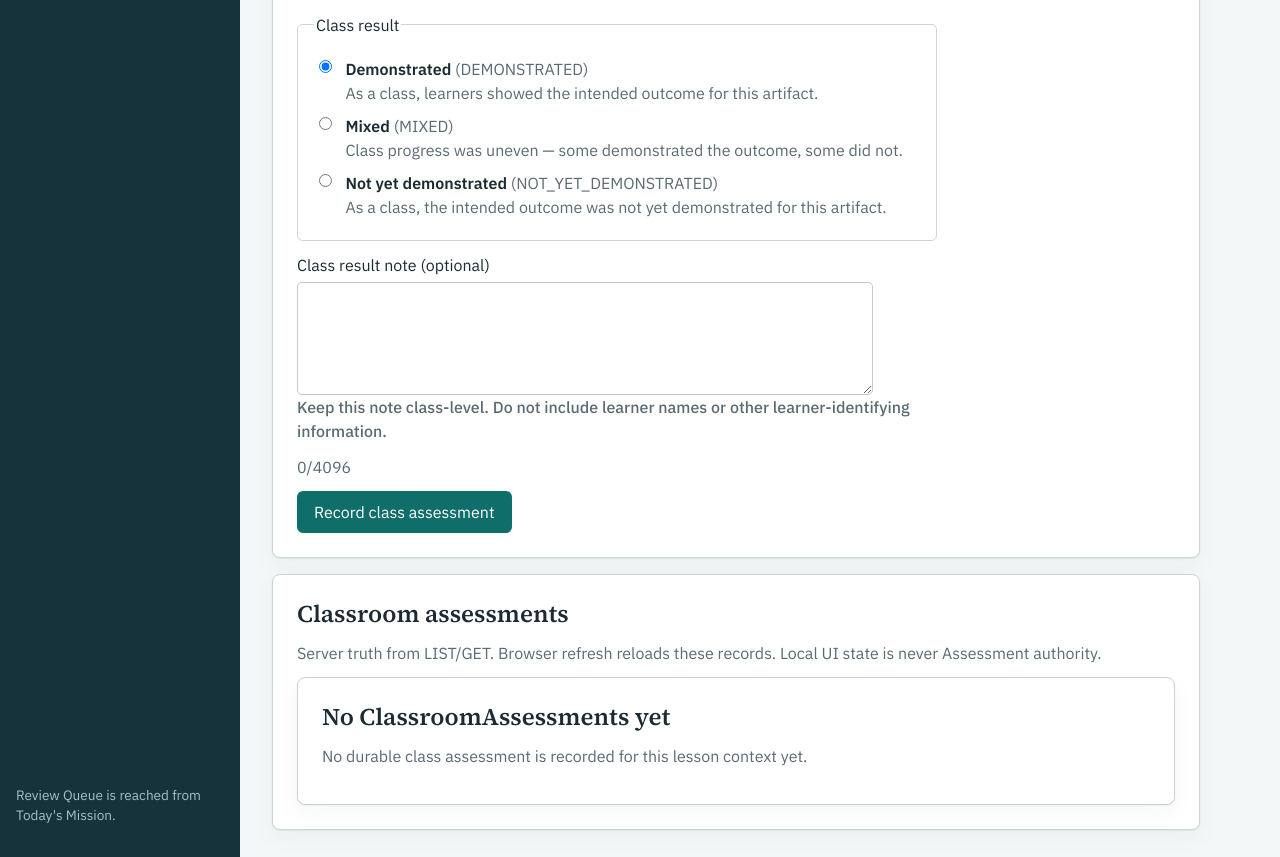
Test: TOS-DEV08-I03 Assess page › shows 403 fail-closed UX
The image size is (1280, 857).
(page scrolled)
Click the button "Record class assessment" at (404, 512), box [297,491,512,533]
(page scrolled)
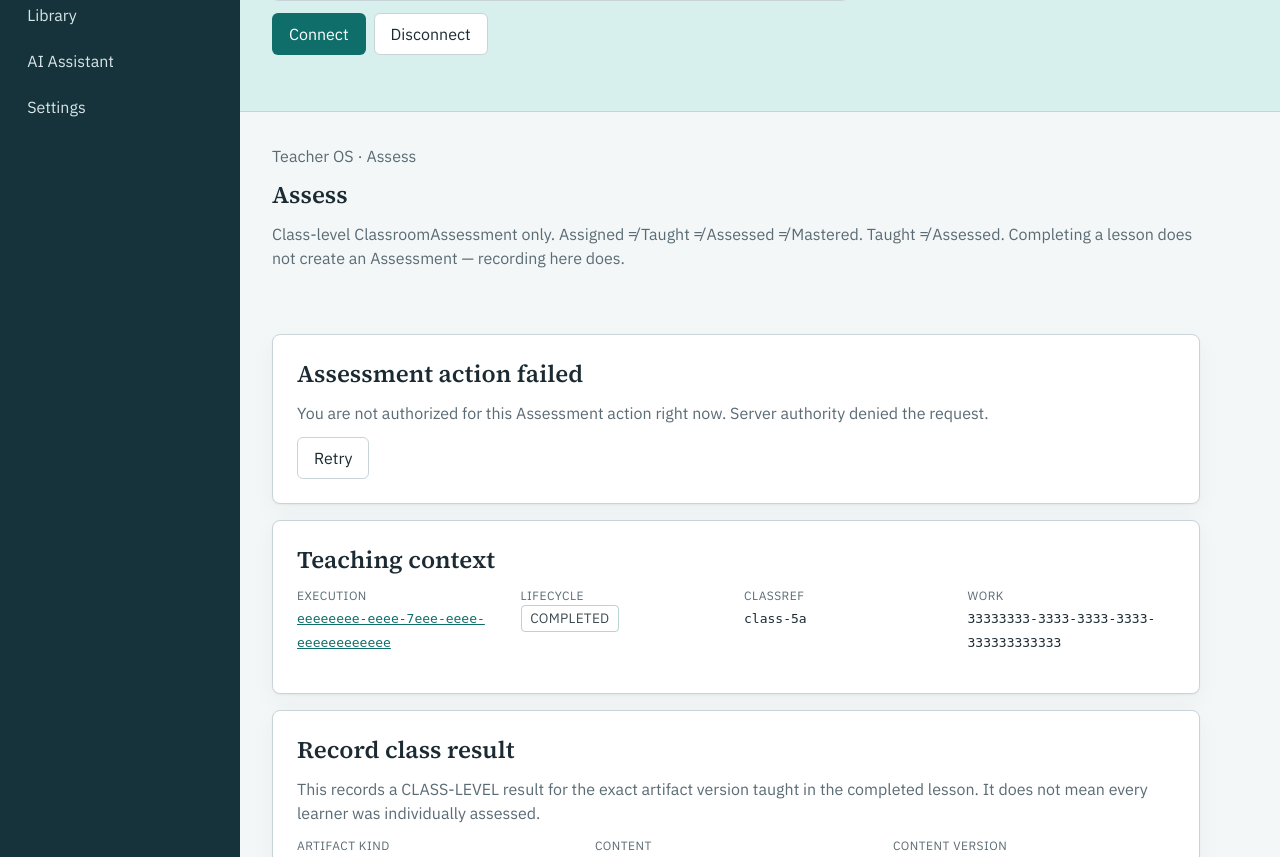
Expected: the text "not authorized for this Assessment action" is shown, [297,403,989,423]
